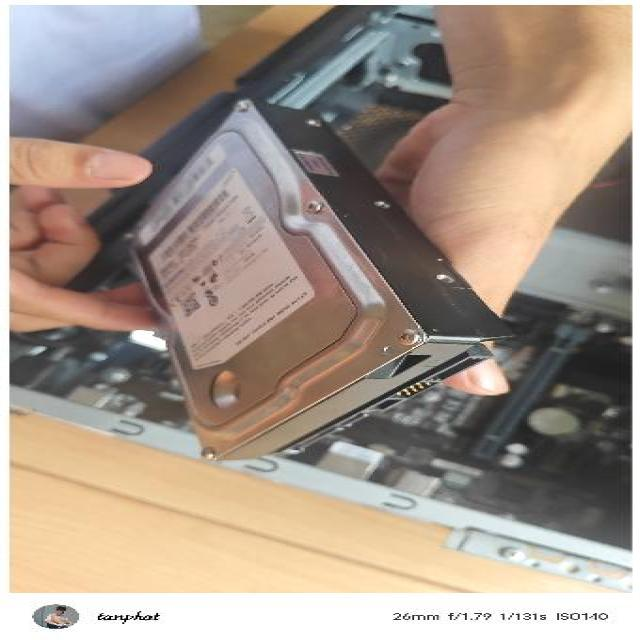DISK: (111, 93, 520, 464)
